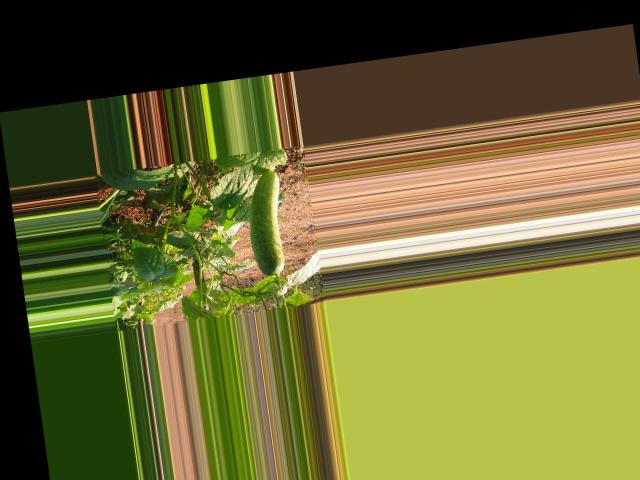cucumber: (242, 169, 292, 276)
